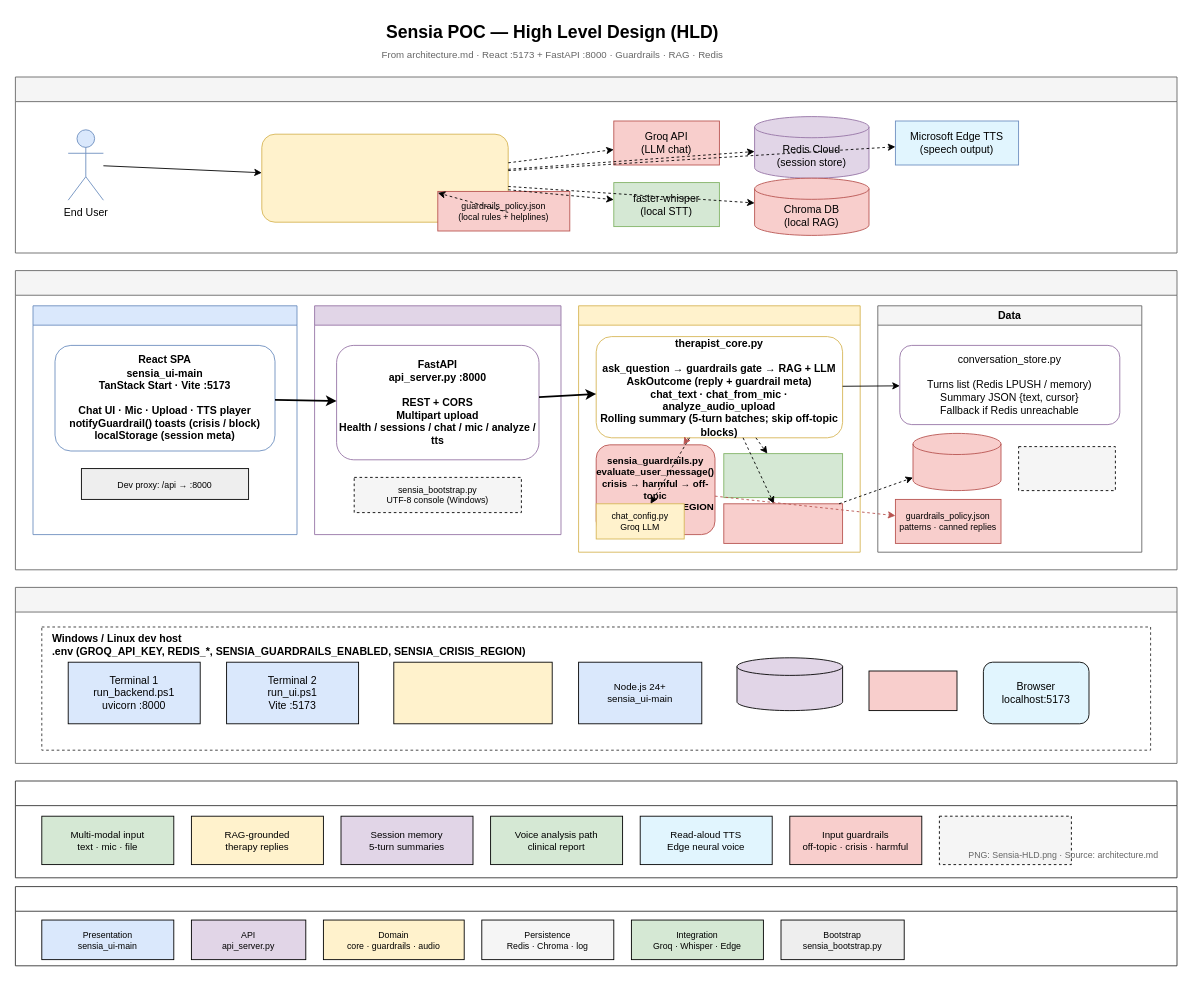
This 1192x981 diagram has some shape labels left out. Here are the shapes that lost their labels. From the top down, the box of each, then its label:
(261, 133, 508, 222): Sensia POC System (Voice + text therapy companion) input guardrails before LLM
(15, 76, 1177, 253): 1. System Context
(32, 305, 297, 535): Presentation
(314, 305, 561, 535): API / Gateway
(15, 270, 1177, 570): 2. Logical Containers (C4-style)
(578, 305, 860, 552): Domain / Application
(723, 453, 843, 498): Audio_Analysis.py librosa + report
(912, 433, 1001, 491): New_DB/ Chroma RAG vectors
(1018, 446, 1115, 491): conversation_log.txt (optional)
(723, 503, 843, 543): embeddings_config.py Chroma + HF mpnet
(393, 661, 552, 724): Python venv FastAPI · LangChain · Chroma · Whisper
(15, 587, 1177, 763): 3. POC Deployment View (Developer Machine)
(736, 657, 843, 711): Hosted Redis (optional)
(868, 670, 957, 711): Groq cloud
(15, 780, 1177, 878): 4. POC Capabilities
(939, 815, 1071, 865): Out of scope POC auth · multi-tenant · prod K8s
(15, 886, 1177, 966): Layers (architecture.md §4)
